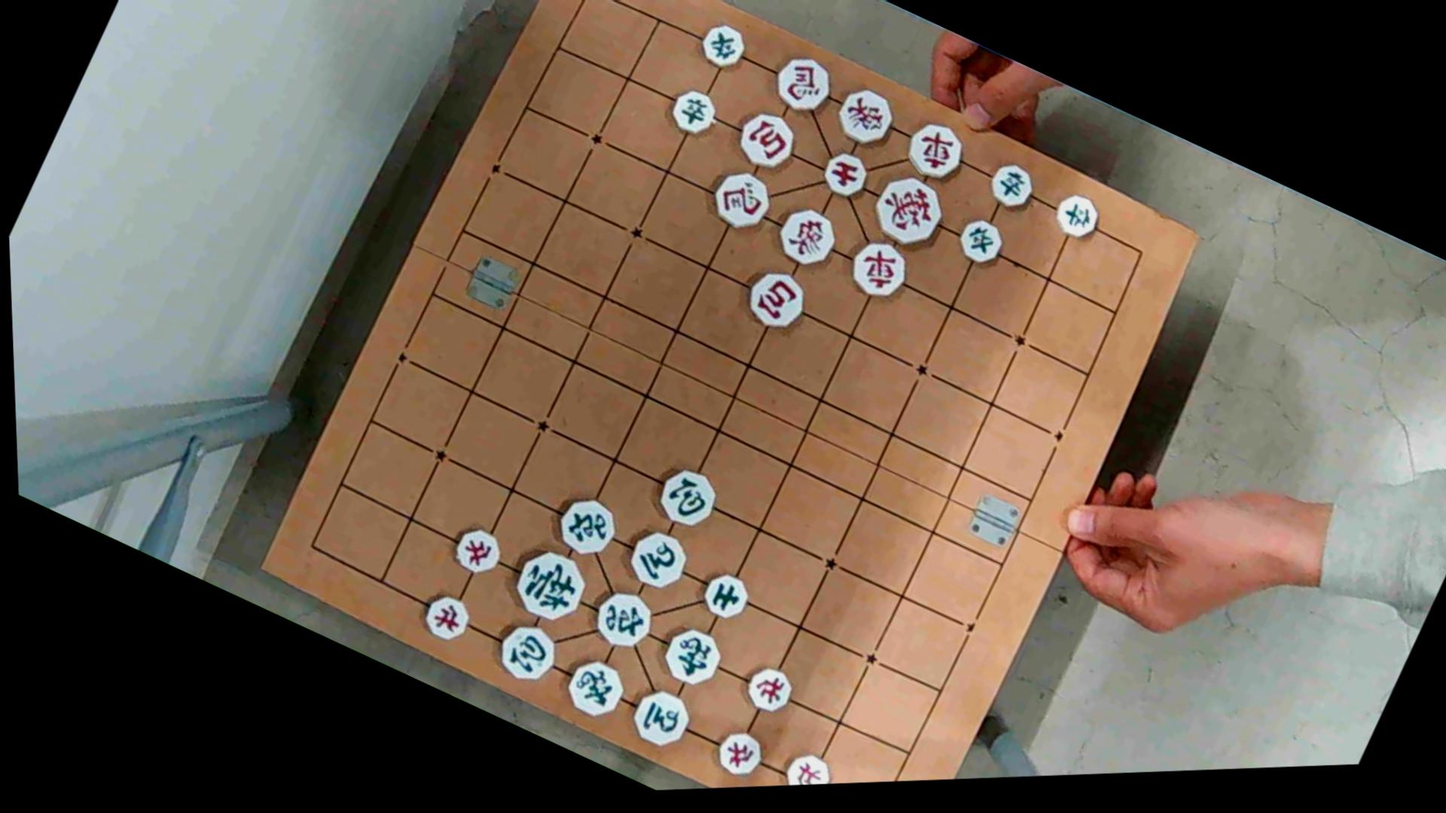cha_green: (584, 582, 660, 656), (549, 489, 625, 562)
cha_red: (898, 115, 972, 185), (840, 235, 912, 305)
jol_green: (949, 212, 1007, 269), (662, 83, 721, 139), (981, 158, 1038, 214), (1045, 187, 1103, 242), (694, 17, 751, 72)
jol_red: (416, 586, 477, 644), (447, 522, 508, 580), (740, 659, 798, 717), (709, 723, 767, 779), (774, 743, 834, 785)
ma_green: (621, 681, 697, 755), (618, 520, 693, 594)
ma_red: (700, 160, 776, 234), (764, 45, 839, 117)
po_green: (485, 616, 561, 690), (648, 461, 722, 533)
po_red: (736, 263, 813, 336), (725, 104, 798, 174)
sa_green: (695, 565, 755, 623)
sa_red: (814, 146, 871, 200)
sang_green: (555, 649, 630, 723), (654, 620, 729, 693)
sang_red: (767, 198, 841, 272), (825, 78, 900, 151)
wang_green: (505, 539, 593, 627)
wang_red: (864, 169, 952, 254)
